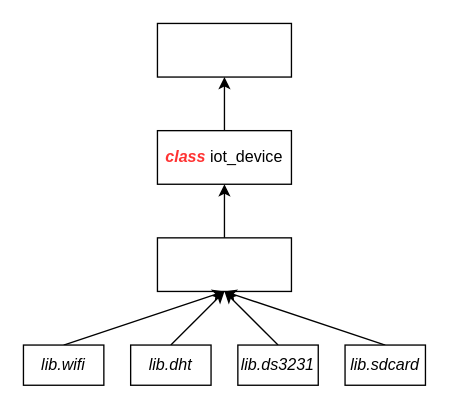
This 449x409 diagram has some shape labels left out. The box of each missing label's shape, as (x1, y1, x2, y2) in pixels:
main.py: (156, 22, 291, 77)
parts.py: (156, 237, 291, 291)
